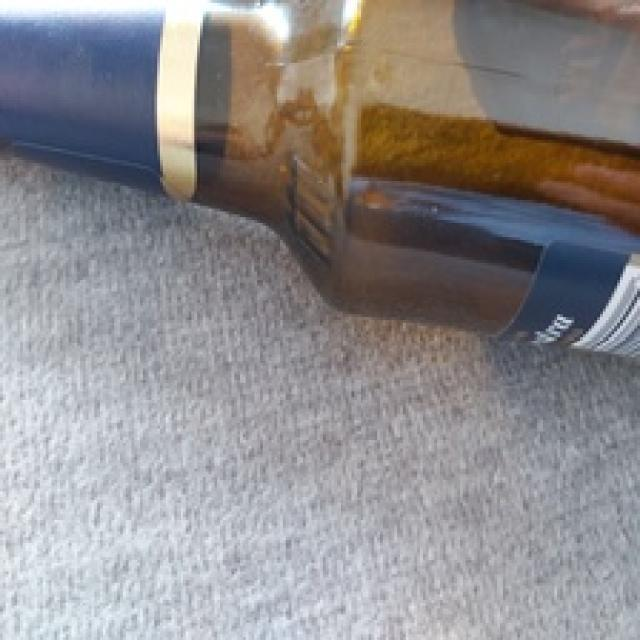Glass: (0, 0, 640, 368)
